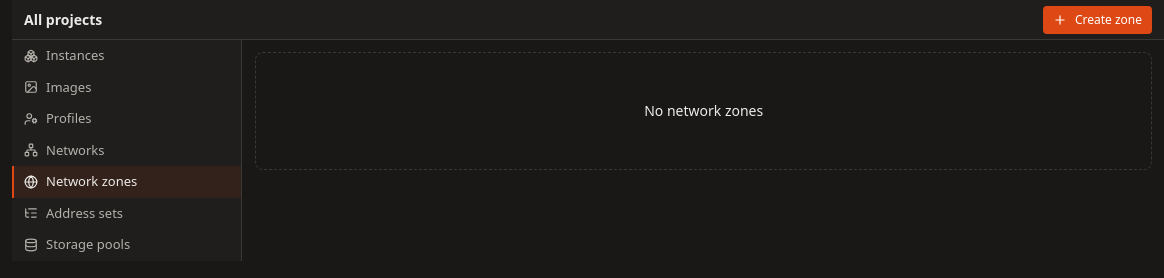
it: ProjectOverview › shows network zones and address sets as side tabs next to networks
The width and height of the screenshot is (1164, 278).
Expected: the element with test id "zones-page" is shown, [243,52,1163,170]
Click the tab with test id "vtab-address-sets" at (127, 213), box [12,198,241,229]
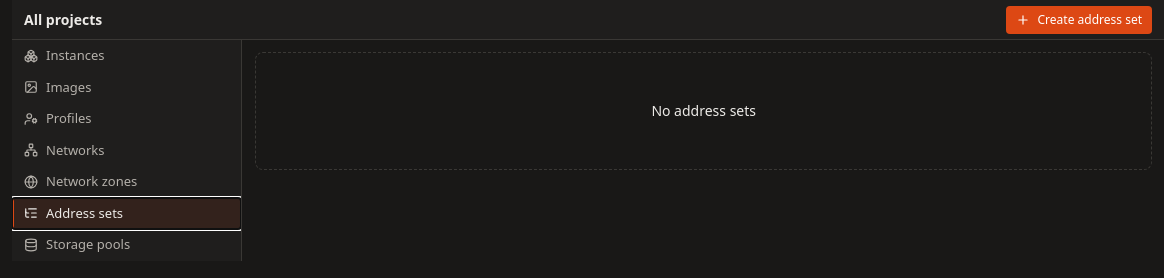
Now the element with test id "sets-page" is shown, box [243,52,1163,170]
